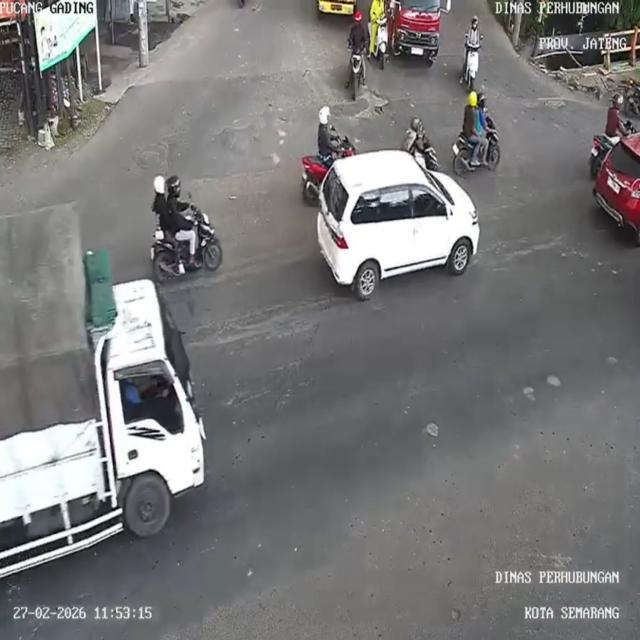motorcycle: (149, 219, 228, 276), (453, 124, 504, 179), (298, 151, 326, 206), (348, 46, 368, 104), (376, 17, 390, 74), (589, 136, 608, 174), (466, 46, 480, 90), (420, 140, 438, 174)
person: (168, 176, 195, 251), (152, 174, 176, 243), (318, 107, 340, 161), (606, 92, 628, 142), (348, 10, 370, 50), (475, 87, 489, 138), (466, 14, 483, 52), (402, 117, 420, 151), (464, 87, 476, 137), (370, 0, 386, 27)
rider_region: (149, 172, 225, 284), (300, 104, 354, 206), (454, 87, 504, 180), (589, 89, 638, 175), (346, 11, 371, 105), (402, 114, 440, 173), (460, 13, 483, 93), (369, 0, 394, 70)
